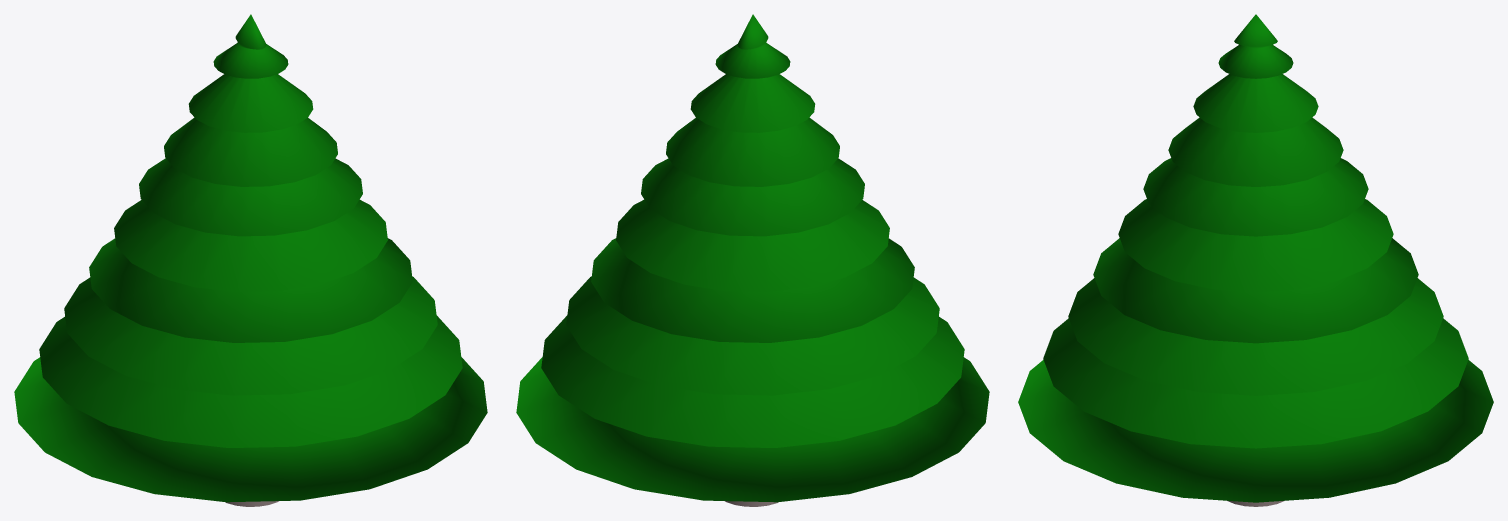
The model's file is pineTree.fbx.
3 views of the same model, side by side, from view 1: azimuth 30°, elevation 25°; view 2: azimuth 150°, elevation 25°; view 3: azimuth 270°, elevation 25° (orthographic).
Visible parts, largest first — view 1: pasted__pCone1; view 2: pasted__pCone1; view 3: pasted__pCone1.
Part boxes in pixels (bbox=[...]): pasted__pCone1: bbox=[14, 14, 487, 502]; pasted__pCone1: bbox=[516, 14, 989, 502]; pasted__pCone1: bbox=[1018, 14, 1493, 502].
Bounding box in the file's own units: 4.64 × 5.14 × 4.64.
